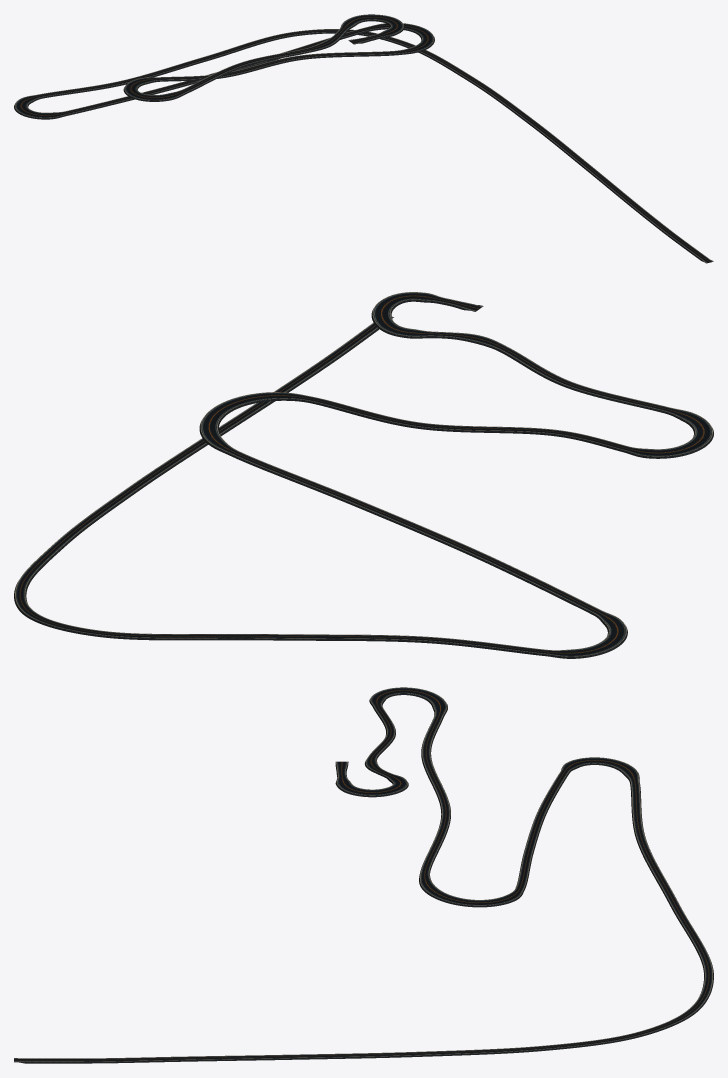
File: Mountain_Road.glb
The picture shows the model from 3 angles, top to bottom: view 1: azimuth 30°, elevation 25°; view 2: azimuth 150°, elevation 25°; view 3: azimuth 270°, elevation 25°; orthographic projection. The views are drawn at different scales.
Visible parts, largest first — view 1: SM_Mountain_Road; view 2: SM_Mountain_Road; view 3: SM_Mountain_Road.
Part boxes in pixels (x1,y1,x2,y2): SM_Mountain_Road: (14, 14, 713, 263); SM_Mountain_Road: (14, 292, 713, 658); SM_Mountain_Road: (14, 687, 713, 1063).
Bounding box in the file's own units: 972 × 353 × 1212.
Materials: 3 (3 with a texture image).
